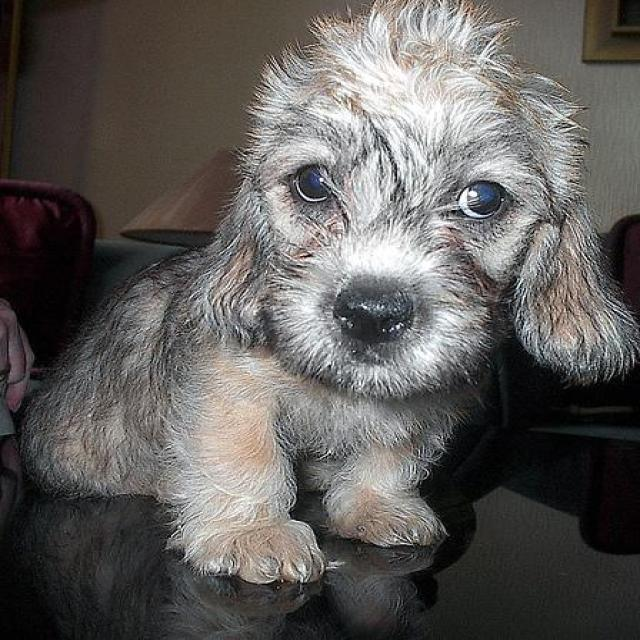dandie_dinmont: (12, 2, 637, 588)
